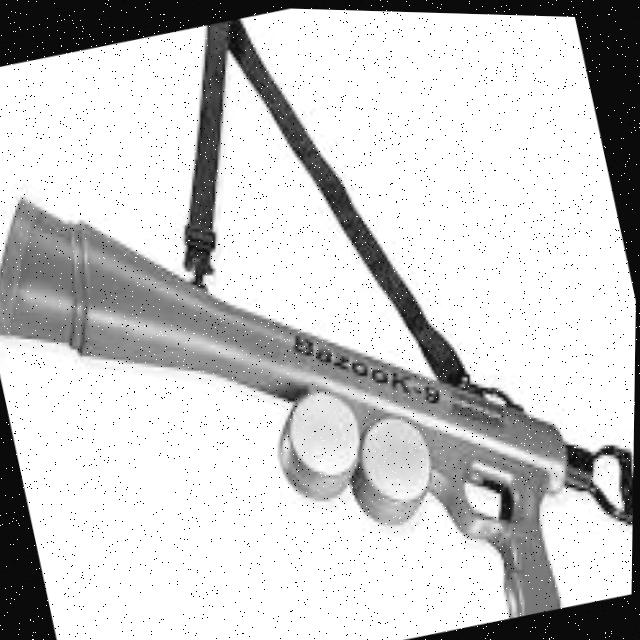rocket: (0, 59, 639, 640)
